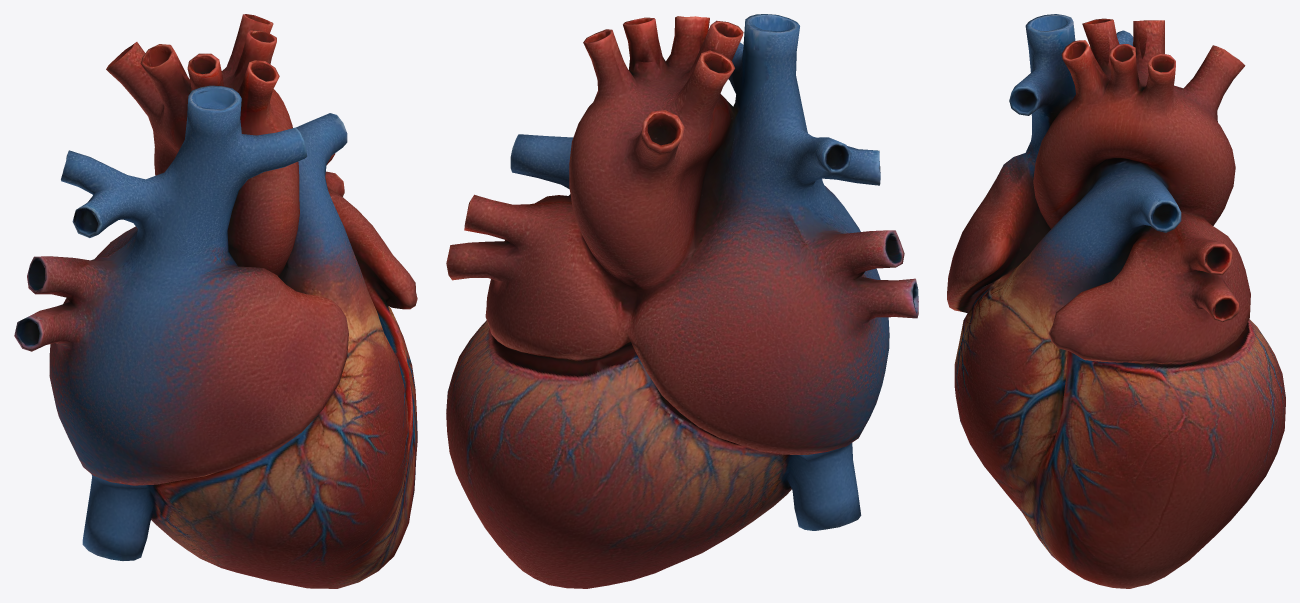
File: heart-realistic.glb
3 views of the same model, side by side, from view 1: azimuth 30°, elevation 25°; view 2: azimuth 150°, elevation 25°; view 3: azimuth 270°, elevation 25° (orthographic). The views are drawn at different scales.
Visible parts, largest first — view 1: tripo_node_d850827b-d07c-4a19-bc11-dd9e941f7884; view 2: tripo_node_d850827b-d07c-4a19-bc11-dd9e941f7884; view 3: tripo_node_d850827b-d07c-4a19-bc11-dd9e941f7884.
Part boxes in pixels (x1,y1,x2,y2): tripo_node_d850827b-d07c-4a19-bc11-dd9e941f7884: [14, 14, 417, 588]; tripo_node_d850827b-d07c-4a19-bc11-dd9e941f7884: [446, 14, 918, 588]; tripo_node_d850827b-d07c-4a19-bc11-dd9e941f7884: [947, 14, 1285, 588].
Size of the model in its own units: 0.7636 by 0.998 by 0.6074.
1 material, 1 textured.
